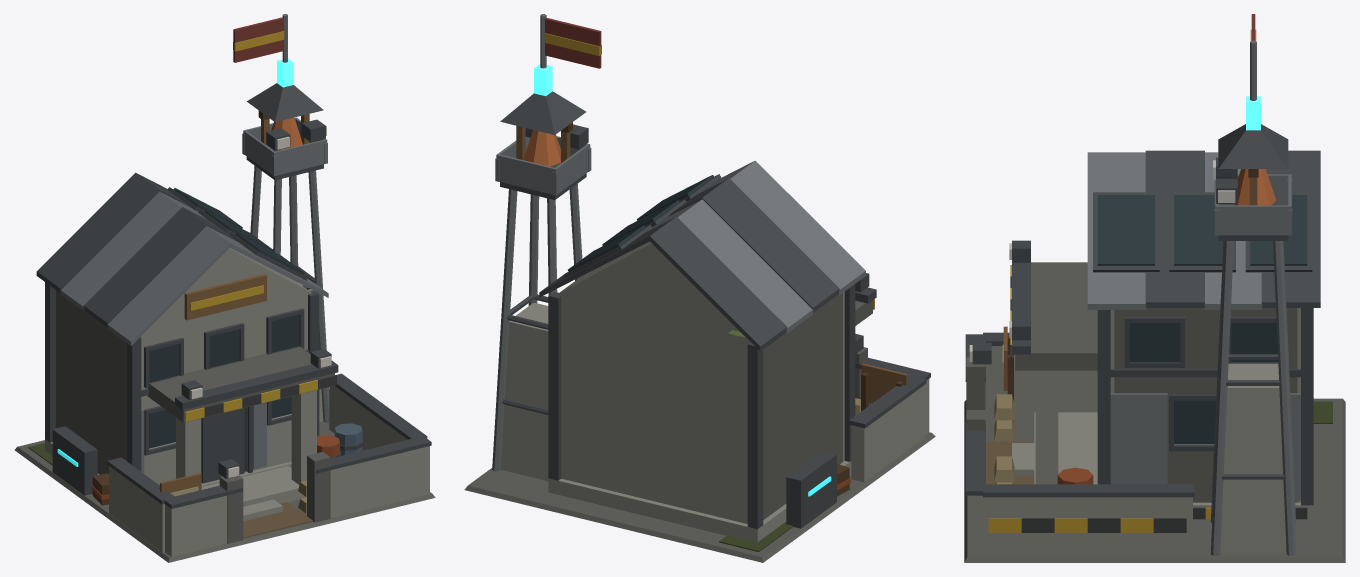
The model's file is town_hall_l3.glb.
The picture shows the model from 3 angles, left to right: view 1: azimuth 30°, elevation 25°; view 2: azimuth 150°, elevation 25°; view 3: azimuth 270°, elevation 25°; orthographic projection. The views are drawn at different scales.
Parts seen in each view (by area): view 1: town_hall_structure, town_hall_props, town_hall_roof; view 2: town_hall_structure, town_hall_roof, town_hall_props; view 3: town_hall_props, town_hall_structure, town_hall_roof.
Part boxes in pixels (box(x1,y1,x2,y2)): town_hall_structure: box(14, 14, 435, 562); town_hall_props: box(52, 17, 431, 556); town_hall_roof: box(36, 83, 338, 422); town_hall_structure: box(464, 14, 935, 562); town_hall_roof: box(500, 91, 876, 351); town_hall_props: box(523, 18, 930, 528); town_hall_props: box(965, 14, 1312, 556); town_hall_structure: box(964, 40, 1345, 562); town_hall_roof: box(1012, 124, 1320, 370).
Size of the model in its own units: 6 by 8.7 by 6.
